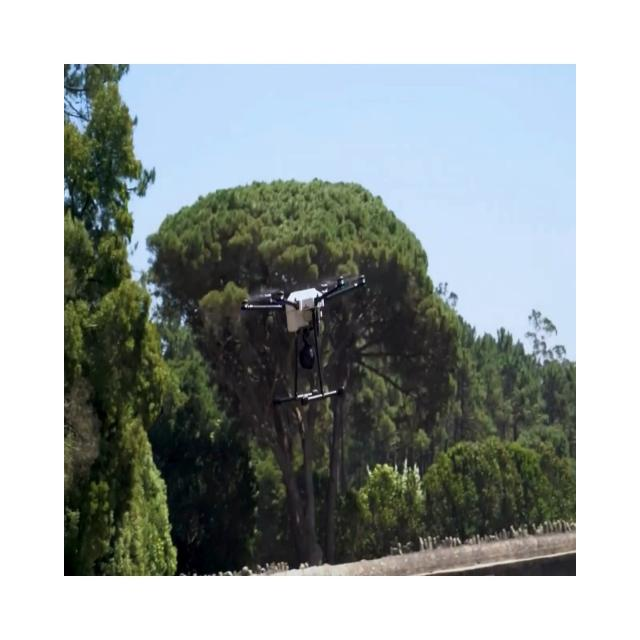drone: (240, 271, 366, 409)
